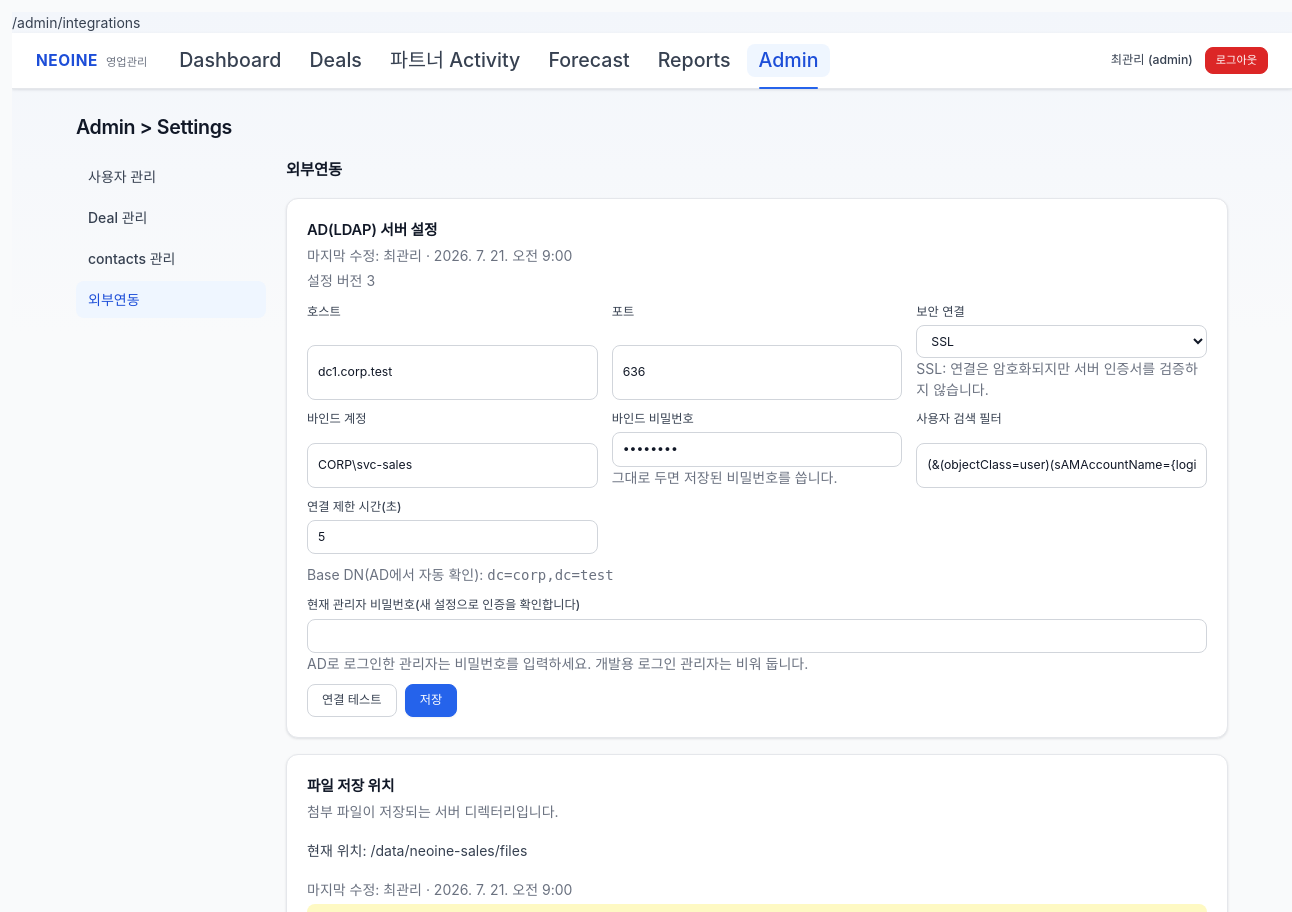
it: 외부연동 AD 설정의 관리자 비밀번호 확인 (AC-27) › sends null when the password is left empty (dev-login admin)
Expected: the field labelled "호스트" is shown, [307,345,598,400]
Click the button "연결 테스트".
click(352, 700)  # box [307,684,397,717]
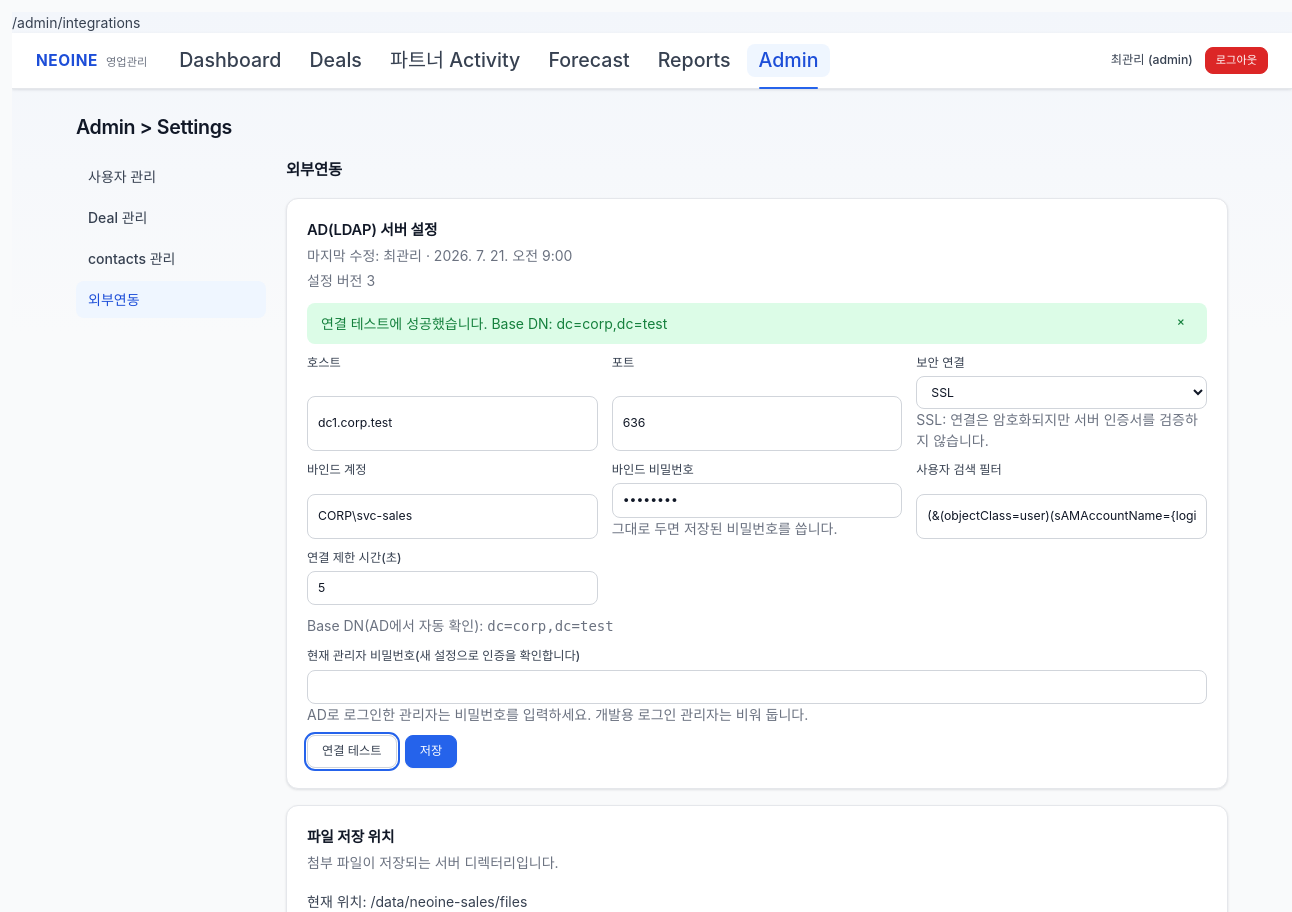
Expected: the text "연결 테스트에 성공했습니다." is shown, [321,314,488,332]
